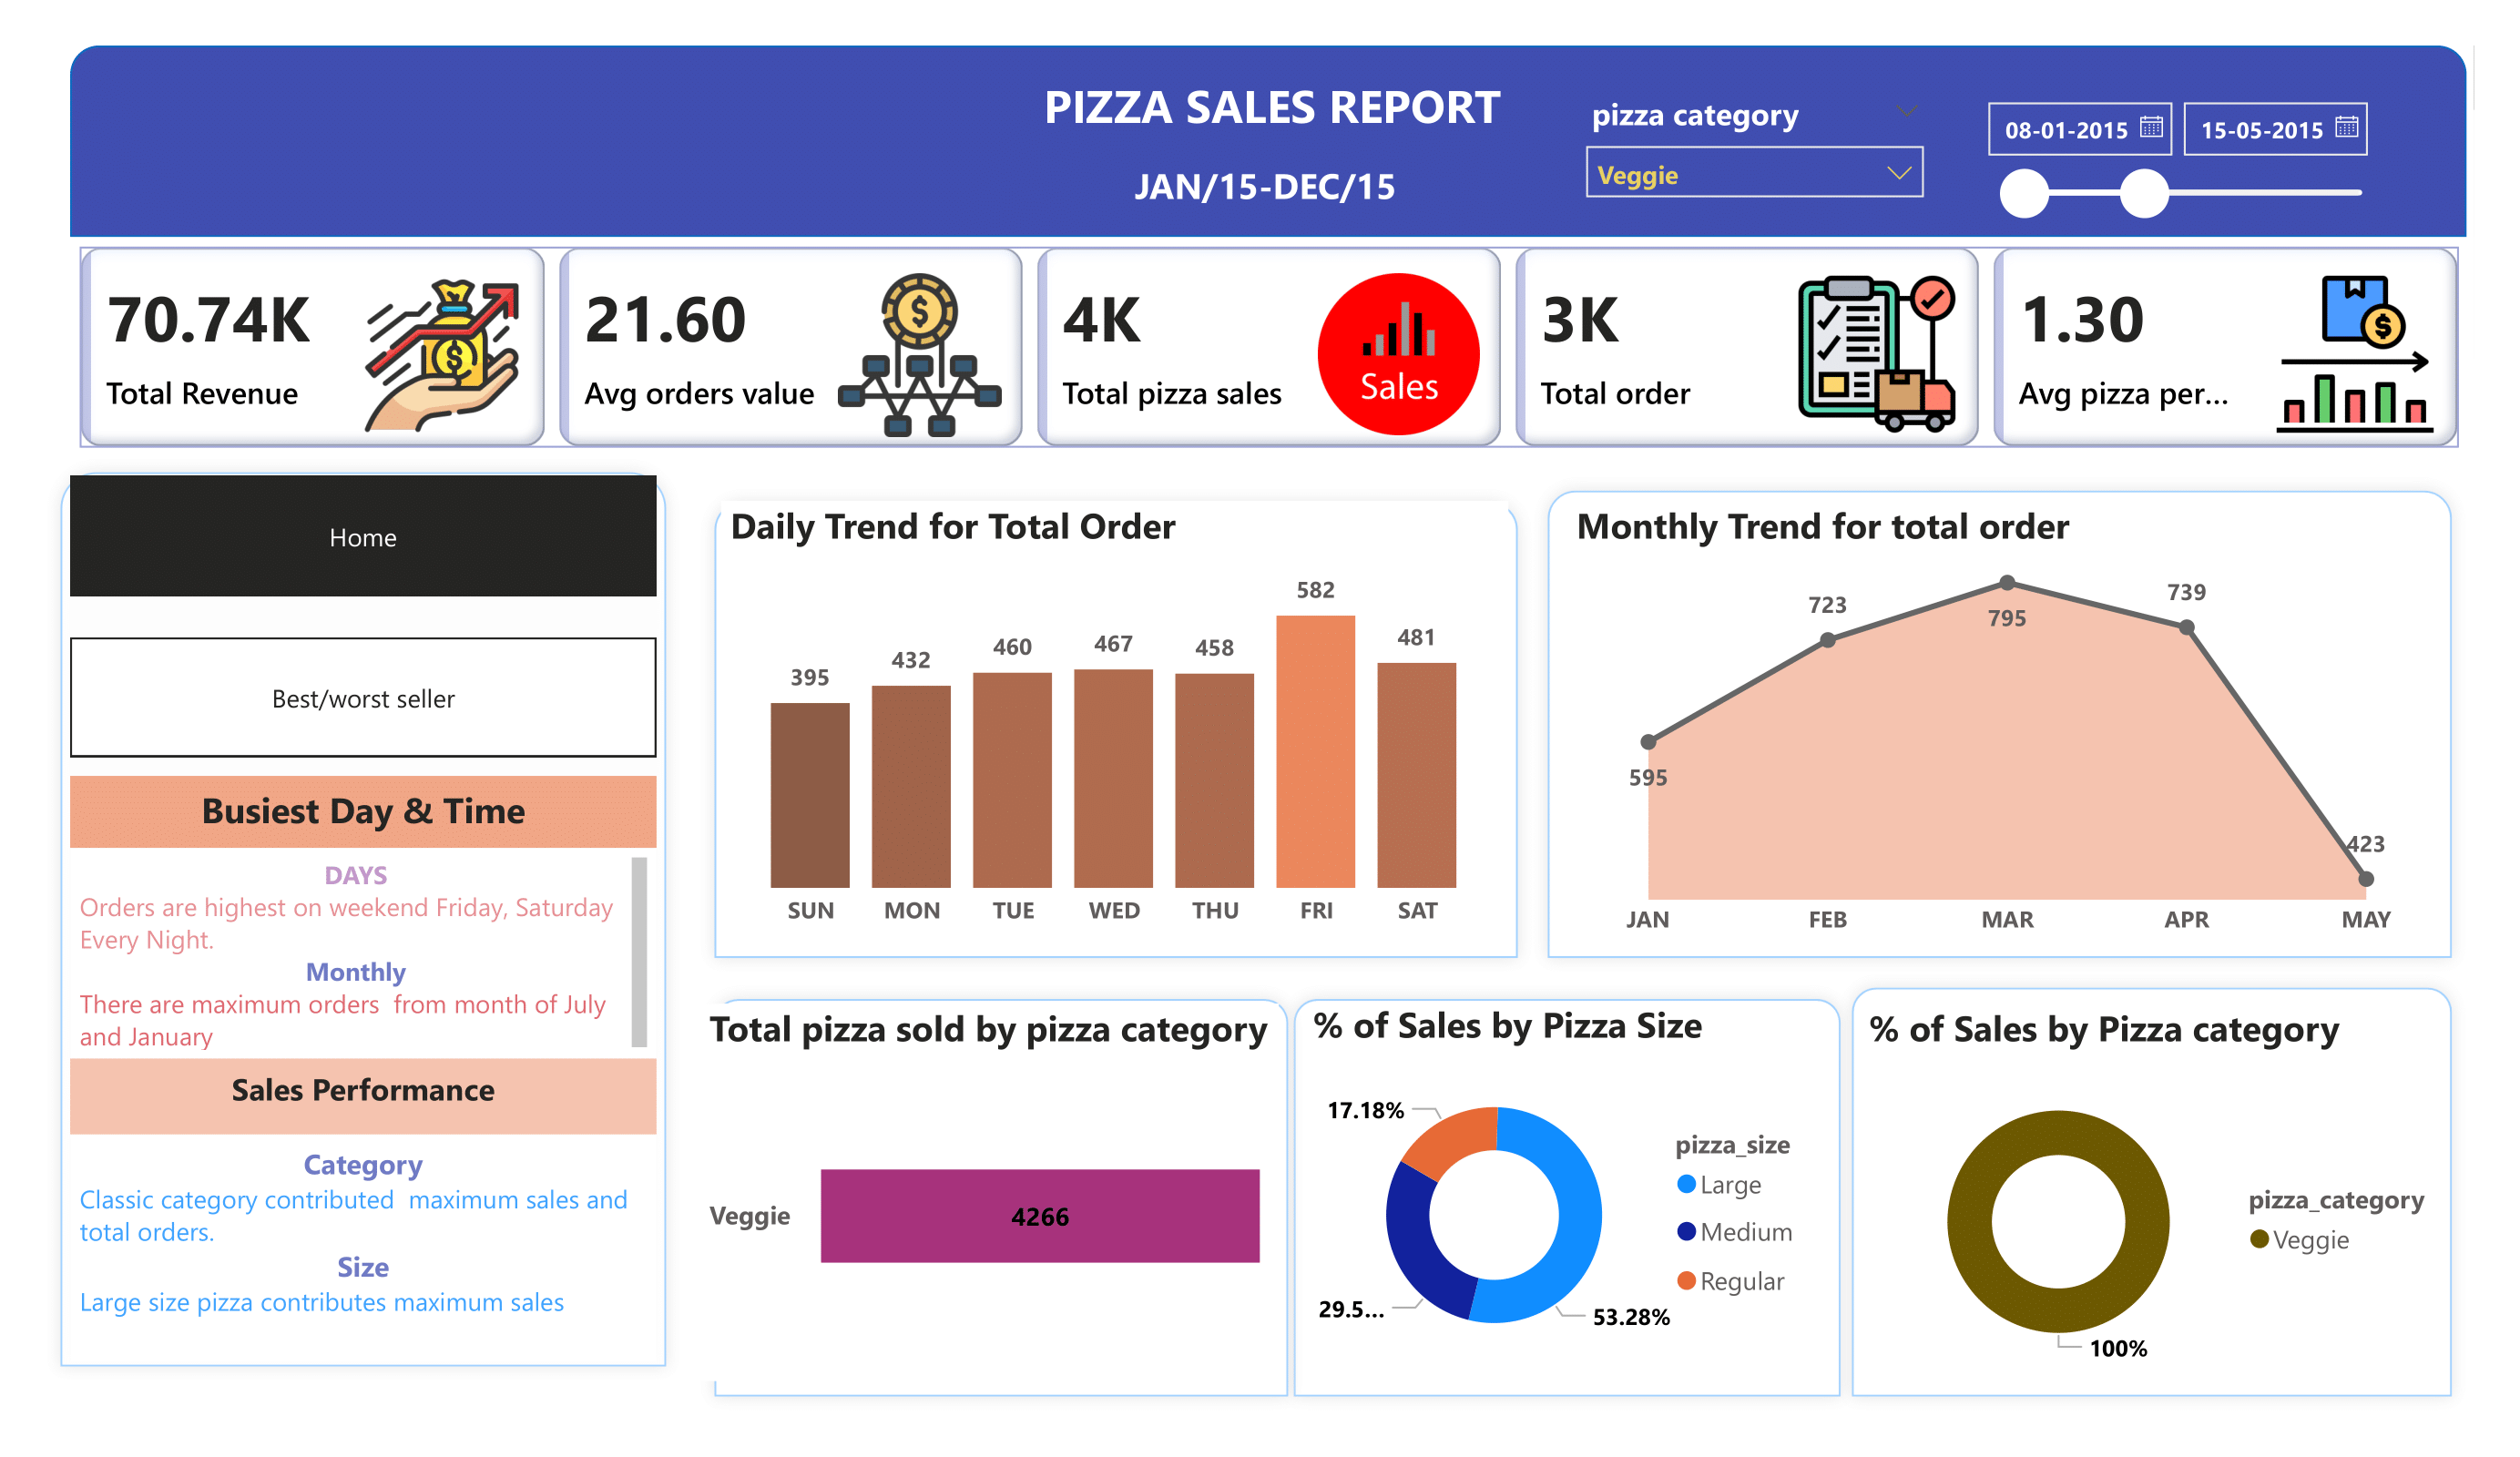

What the dashboard file says about the page in this screenshot:
{"tool":"powerbi","page":{"name":"Home","canvas":[1280,720],"ordinal":0},"visuals":[{"type":"shape","box":[13.2,0,1262.9,101],"z":0},{"type":"shape","box":[0,216.6,335.1,487.3],"z":1000},{"type":"cardVisual","fields":{"Data":["pizza_sales.Total Revenue","pizza_sales.Avg orders value","pizza_sales.Total pizza sales","pizza_sales.Total order","pizza_sales.Avg pizza per orders"]},"box":[13.2,101,1267.3,115.6],"z":2000},{"type":"textbox","box":[521,10.2,289.8,45.4],"z":3000},{"type":"textbox","box":[569.3,55.6,215.1,35.1],"z":4000},{"type":"shape","box":[345.4,232.7,439,256.1],"z":5000},{"type":"columnChart","title":"Daily Trend for Total Order ","fields":{"Category":["pizza_sales.Order day"],"Y":["pizza_sales.Total order"]},"box":[355.6,240,415.6,234.1],"z":6000},{"type":"shape","box":[784.4,226.8,491.7,262],"z":7000},{"type":"areaChart","title":"Monthly Trend for total order","fields":{"Category":["pizza_sales.Order Month"],"Y":["pizza_sales.Total order"]},"box":[802,240,463.9,238.5],"z":8000},{"type":"textbox","box":[13.2,384.9,308.8,38],"z":9000},{"type":"shape","box":[943.9,488.8,332.2,231.2],"z":10000},{"type":"shape","box":[649.8,494.6,304.4,225.4],"z":11000},{"type":"shape","box":[345.4,494.6,317.6,225.4],"z":12000},{"type":"donutChart","title":"% of Sales by Pizza category","fields":{"Category":["pizza_sales.pizza_category"],"Y":["pizza_sales.Total Revenue"]},"box":[955.6,504.9,310.2,204.9],"z":13000},{"type":"donutChart","title":"% of Sales by Pizza Size","fields":{"Y":["pizza_sales.Total Revenue"],"Category":["pizza_sales.pizza_size"]},"box":[662.9,503.4,281,202],"z":14000},{"type":"funnel","title":"Total pizza sold by pizza category","fields":{"Category":["pizza_sales.pizza_category"],"Y":["pizza_sales.Total pizza sales"]},"box":[345.4,504.9,304.4,199],"z":15000},{"type":"textbox","box":[13.2,422.9,308.8,111.2],"z":16000},{"type":"textbox","box":[13.2,534.1,308.8,39.5],"z":17000},{"type":"textbox","box":[13.2,573.7,308.8,120],"z":18000},{"type":"slicer","fields":{"Values":["pizza_sales.pizza_category"]},"box":[802,20.5,197.6,60],"z":19000},{"type":"slicer","fields":{"Values":["pizza_sales.order_date"]},"box":[1011.2,20.5,231.2,80.5],"z":20000},{"type":"pageNavigator","box":[13.2,226.8,308.8,62.9],"z":21000},{"type":"pageNavigator","box":[13.2,311.7,308.8,62.9],"z":22000}]}

Visuals, with their boxes on the page's 1280x720 design canvas (x1, y1, x2, y2). These are canvas units, not pixel positions in the 2520x1457 screenshot, which may show the page scaled, cropped or inside an application window:
shape: rect(13, 0, 1276, 101)
shape: rect(0, 217, 335, 704)
cardVisual - pizza_sales.Total Revenue x pizza_sales.Avg orders value: rect(13, 101, 1280, 217)
textbox: rect(521, 10, 811, 56)
textbox: rect(569, 56, 784, 91)
shape: rect(345, 233, 784, 489)
"Daily Trend for Total Order " columnChart: rect(356, 240, 771, 474)
shape: rect(784, 227, 1276, 489)
"Monthly Trend for total order" areaChart: rect(802, 240, 1266, 478)
textbox: rect(13, 385, 322, 423)
shape: rect(944, 489, 1276, 720)
shape: rect(650, 495, 954, 720)
shape: rect(345, 495, 663, 720)
"% of Sales by Pizza category" donutChart: rect(956, 505, 1266, 710)
"% of Sales by Pizza Size" donutChart: rect(663, 503, 944, 705)
"Total pizza sold by pizza category" funnel: rect(345, 505, 650, 704)
textbox: rect(13, 423, 322, 534)
textbox: rect(13, 534, 322, 574)
textbox: rect(13, 574, 322, 694)
slicer - pizza_sales.pizza_category: rect(802, 20, 1000, 80)
slicer - pizza_sales.order_date: rect(1011, 20, 1242, 101)
pageNavigator: rect(13, 227, 322, 290)
pageNavigator: rect(13, 312, 322, 375)
